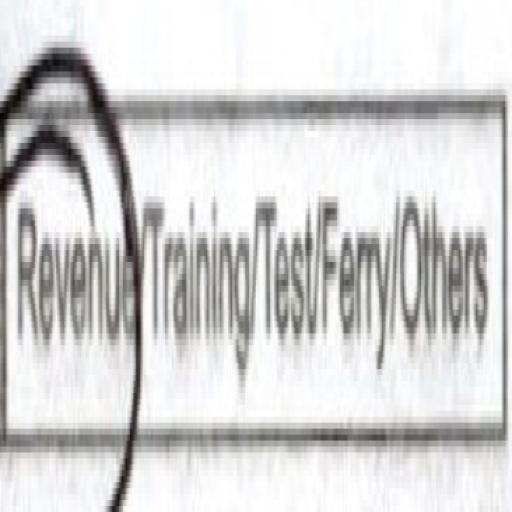check: (0, 9, 144, 505)
